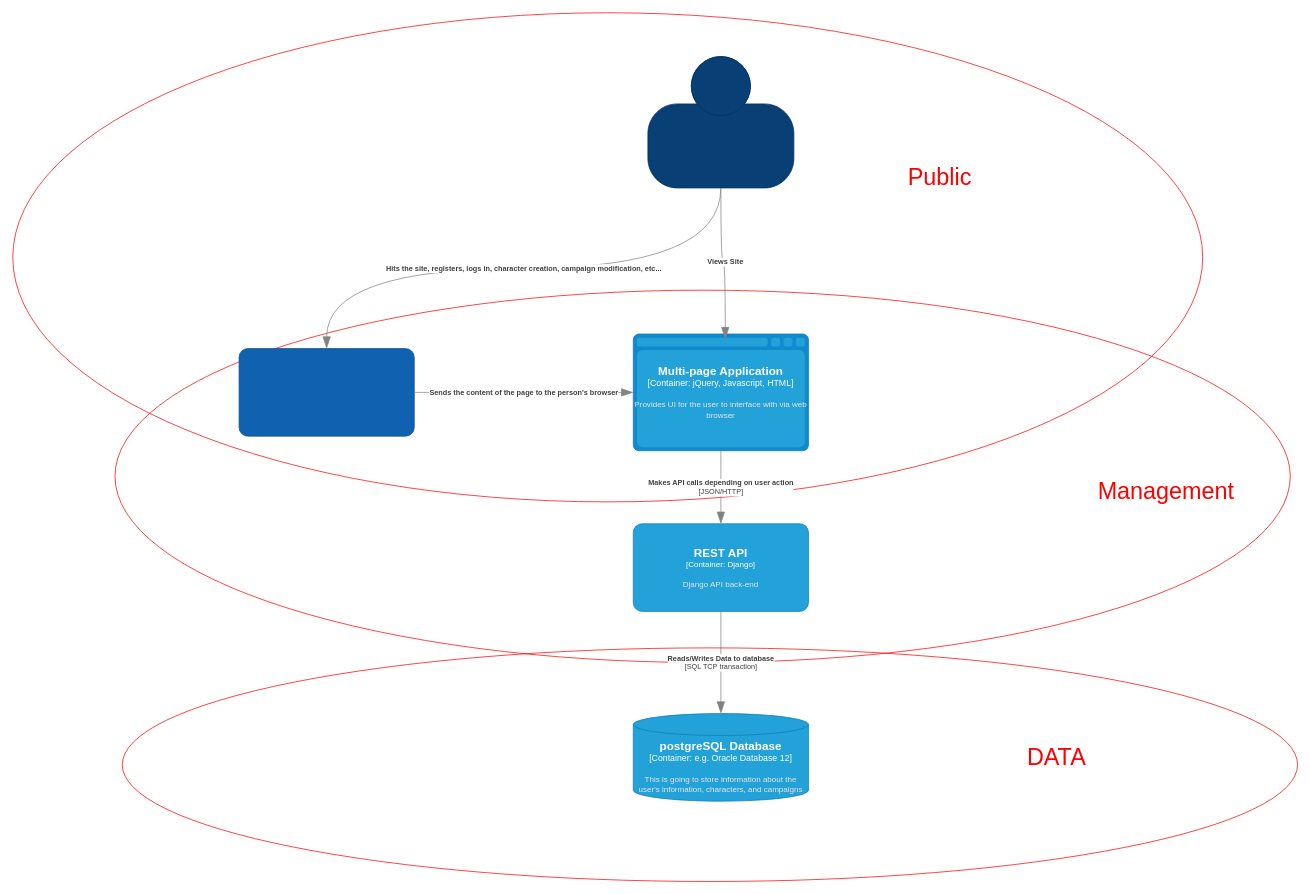
This 1310x894 diagram has some shape labels left out. The shapes that lost their labels are listed below. From the top down, each one's centre as x and y in pixels, then its label:
At point (720, 122): "Person [Person] Person hitting the site".
At point (326, 392): "Django [Software System] Django Web App".
